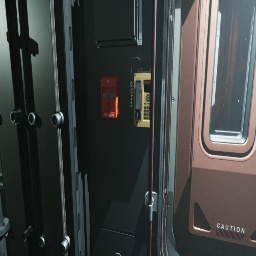EmergencyPhone ,: (129, 57, 155, 128)
FireAlarm ,: (101, 76, 118, 119)
